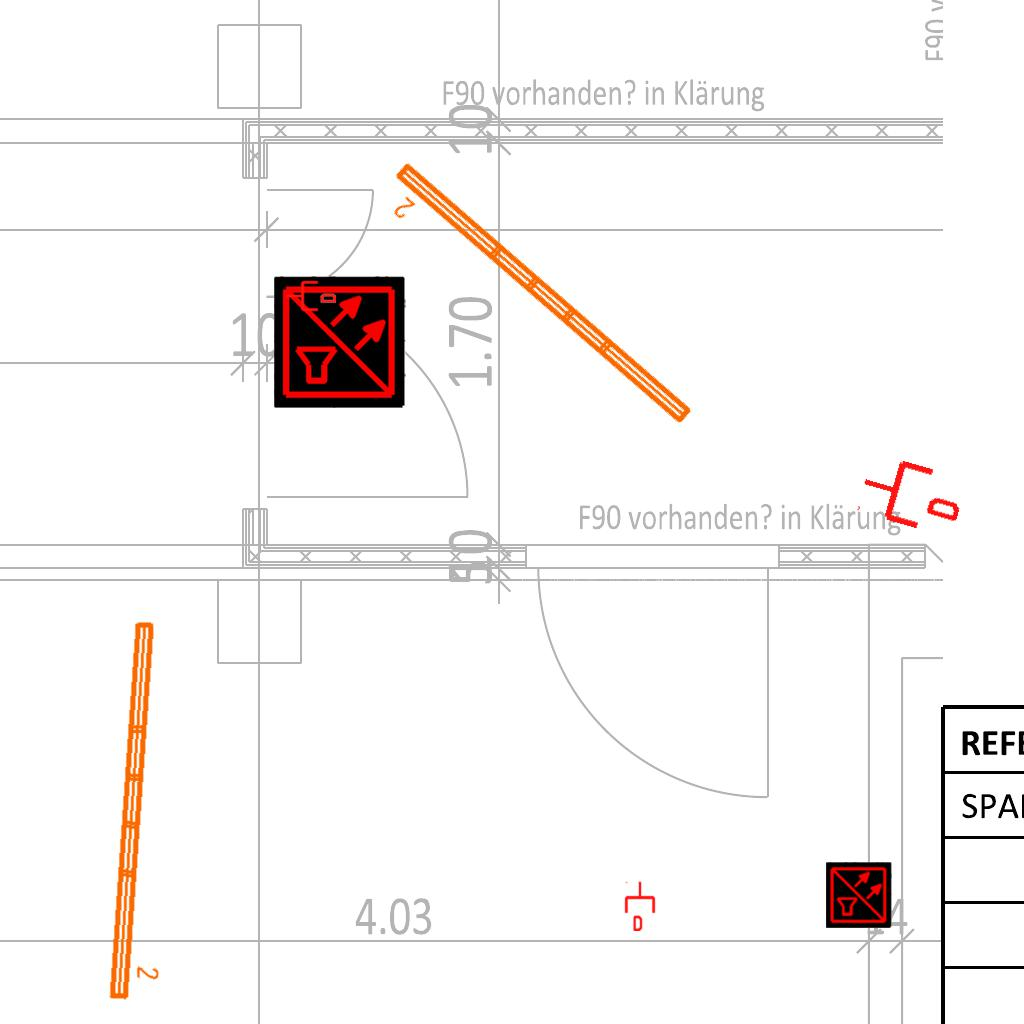Ambulanz_Pendelleuchte_LED: (371, 154, 700, 452), (103, 616, 186, 1006)
Datenanschluss_einfach: (853, 448, 970, 542), (623, 881, 657, 931), (286, 279, 336, 313)
OKW_Multisensormelder_(Kombination_optischer_Rauch-Kahlenmonoxid_Waerme-Melder): (274, 276, 406, 408), (826, 862, 892, 928)
